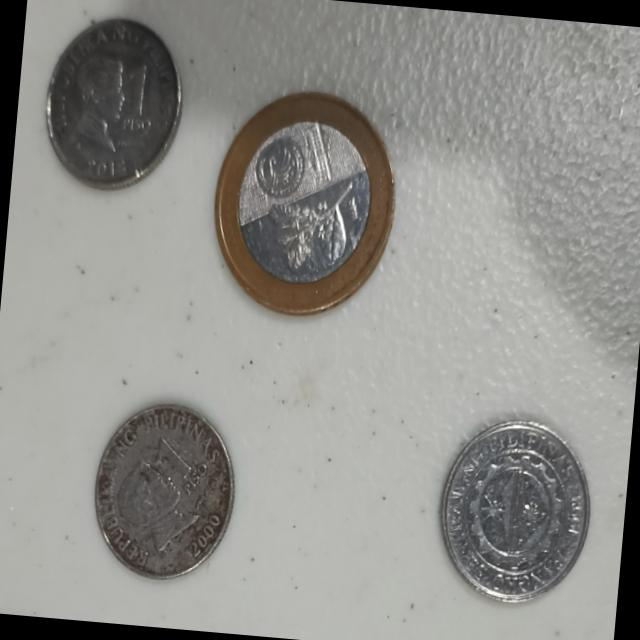1_peso: (441, 421, 588, 599), (95, 404, 233, 578), (46, 19, 181, 187)
20_peso: (214, 92, 394, 314)
